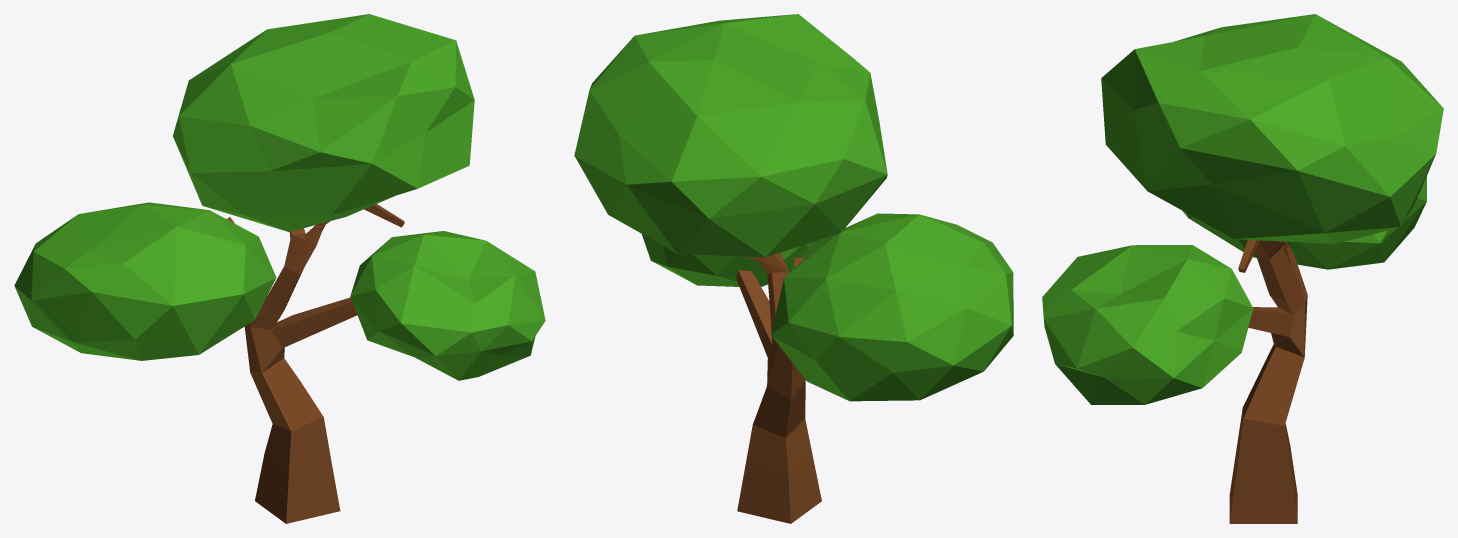
3 views of the same model, side by side, from view 1: azimuth 30°, elevation 25°; view 2: azimuth 150°, elevation 25°; view 3: azimuth 270°, elevation 25° (orthographic). The views are drawn at different scales.
Visible parts, largest first — view 1: 아이코스피어.017, 아이코스피어.016, 아이코스피어.018, 큐브; view 2: 아이코스피어.017, 아이코스피어.016, 큐브, 아이코스피어.018; view 3: 아이코스피어.017, 아이코스피어.018, 큐브, 아이코스피어.016.
Part boxes in pixels (<box>): 아이코스피어.017: <box>173,14,474,231</box>; 아이코스피어.016: <box>14,202,276,360</box>; 아이코스피어.018: <box>350,231,545,380</box>; 큐브: <box>226,204,404,523</box>; 아이코스피어.017: <box>574,14,887,257</box>; 아이코스피어.016: <box>771,213,1013,401</box>; 큐브: <box>736,252,821,523</box>; 아이코스피어.018: <box>642,234,817,286</box>; 아이코스피어.017: <box>1101,14,1443,243</box>; 아이코스피어.018: <box>1042,245,1253,404</box>; 큐브: <box>1229,240,1307,523</box>; 아이코스피어.016: <box>1182,176,1426,269</box>.
Size of the model in its own units: 2583 by 2557 by 1904.
